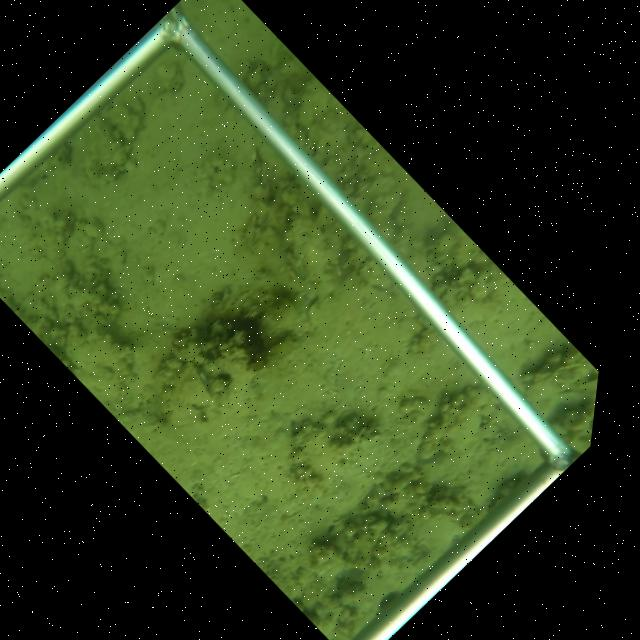Oyster-Closed: (250, 144, 271, 186)
Oyster-Indeterminate: (168, 359, 212, 410)
